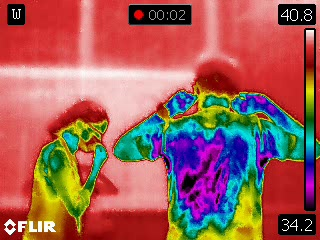human: (112, 54, 320, 240), (23, 99, 111, 240)
